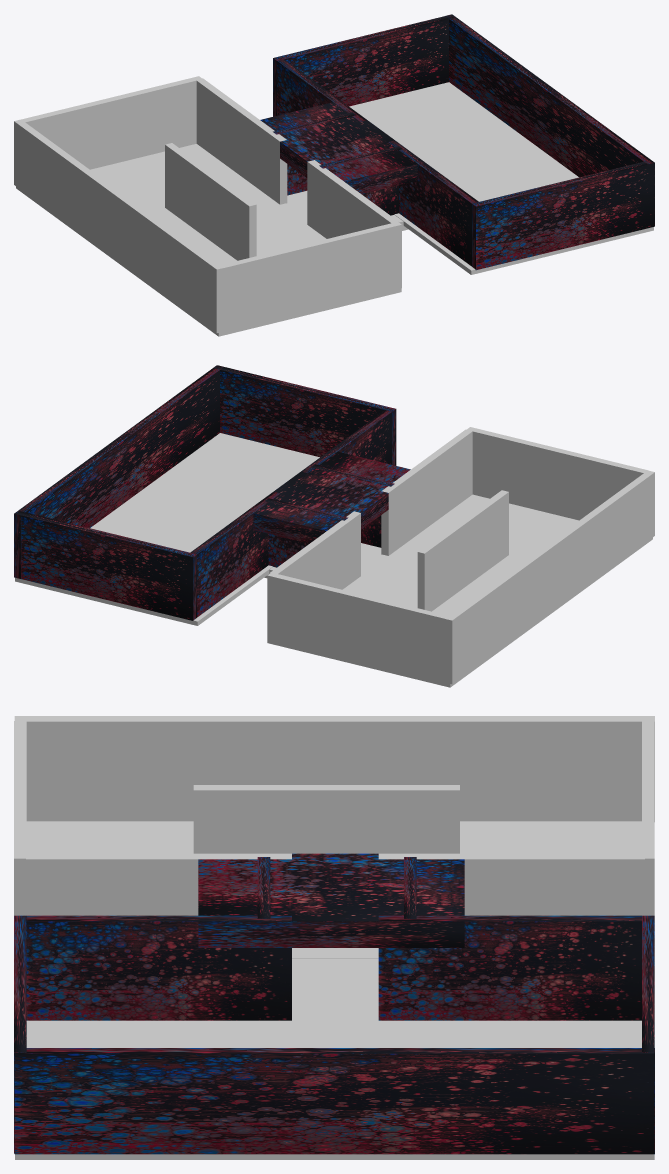
Rendered from artgallery.glb.
3 views of the same model, one above another, from view 1: azimuth 30°, elevation 25°; view 2: azimuth 150°, elevation 25°; view 3: azimuth 270°, elevation 25° (orthographic). The views are drawn at different scales.
Parts seen in each view (by area): view 1: South, Floor1, East1, East, North1, West, West1, Floor, North3, North6, North2, North5 (+5 smaller); view 2: South, Floor1, North1, West, West1, East, East1, Floor, North3, North6, North, North4 (+4 smaller); view 3: North1, South, North5, North4, North3, Floor1, North6, Floor, North2, North, Box, East (+5 smaller).
Part boxes in pixels (x1,y1,x2,y2): South: (14,119,223,333); Floor1: (349,82,653,274); East1: (472,160,654,270); East: (220,222,401,331); North1: (445,14,654,226); West: (21,76,201,169); West1: (273,14,454,116); Floor: (16,144,401,336); North3: (260,102,417,194); North6: (165,143,256,260); North2: (196,78,287,204); North5: (388,140,478,266); South: (445,470,654,684); Floor1: (15,433,319,625); North1: (14,365,222,578); West: (267,573,449,682); West1: (15,511,197,620); East: (467,427,648,520); East1: (214,365,396,465); Floor: (267,494,652,687); North3: (253,451,410,543); North6: (417,490,508,611); North: (381,429,472,555); North4: (190,491,280,616); North1: (14,1048,654,1154); South: (14,716,654,821); North5: (26,915,291,1020); North4: (378,915,641,1020); North3: (198,853,464,947); Floor1: (15,1011,654,1159); North6: (193,785,459,853); Floor: (26,821,641,958); North2: (378,853,644,915); North: (26,853,291,915); Box: (292,958,378,1011); East: (14,721,26,915).
Size of the model in its own units: 245 by 38.87 by 196.
Materials: 2 (1 with a texture image).
